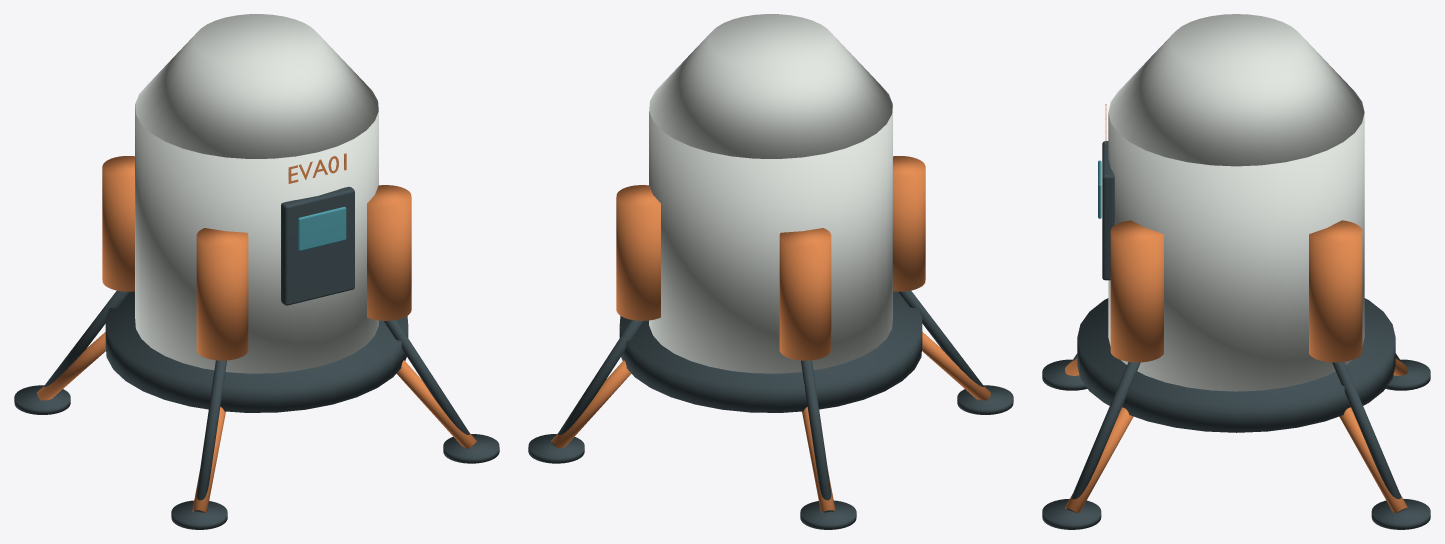
File: eva01-cargo-lander.glb
3 views of the same model, side by side, from view 1: azimuth 30°, elevation 25°; view 2: azimuth 150°, elevation 25°; view 3: azimuth 270°, elevation 25° (orthographic). The views are drawn at different scales.
Visible parts, largest first — view 1: Cuerpo de carga, Cubierta superior, Bastidor de servicio, Depósito auxiliar.002, Portón de carga, Depósito auxiliar.003, Depósito auxiliar.001, Mirilla, Tirante de tren.002, Tirante de tren.003, Amortiguador de aterrizaje.003, Plato de apoyo.002 (+5 smaller); view 2: Cuerpo de carga, Cubierta superior, Bastidor de servicio, Depósito auxiliar.001, Depósito auxiliar, Depósito auxiliar.002, Tirante de tren.001, Tirante de tren, Amortiguador de aterrizaje, Plato de apoyo.001, Plato de apoyo, Amortiguador de aterrizaje.002 (+3 smaller); view 3: Cuerpo de carga, Cubierta superior, Bastidor de servicio, Depósito auxiliar, Depósito auxiliar.003, Tirante de tren, Tirante de tren.003, Portón de carga, Plato de apoyo, Plato de apoyo.003, Amortiguador de aterrizaje, Amortiguador de aterrizaje.003 (+2 smaller).
Part boxes in pixels (box(x1,y1,x2,y2)): Cuerpo de carga: box(135, 104, 378, 373); Cubierta superior: box(135, 14, 378, 158); Bastidor de servicio: box(105, 291, 408, 412); Depósito auxiliar.002: box(196, 228, 248, 360); Portón de carga: box(281, 187, 354, 305); Depósito auxiliar.003: box(367, 185, 411, 320); Depósito auxiliar.001: box(102, 156, 134, 291); Mirilla: box(298, 206, 346, 251); Tirante de tren.002: box(194, 360, 226, 512); Tirante de tren.003: box(384, 320, 475, 446); Amortiguador de aterrizaje.003: box(396, 360, 476, 448); Plato de apoyo.002: box(171, 500, 227, 529); Cuerpo de carga: box(649, 104, 892, 373); Cubierta superior: box(649, 14, 892, 158); Bastidor de servicio: box(619, 291, 922, 412); Depósito auxiliar.001: box(779, 228, 831, 360); Depósito auxiliar: box(616, 185, 660, 320); Depósito auxiliar.002: box(893, 156, 925, 291); Tirante de tren.001: box(801, 360, 833, 512); Tirante de tren: box(552, 320, 643, 446); Amortiguador de aterrizaje: box(551, 360, 631, 448); Plato de apoyo.001: box(800, 500, 856, 529); Plato de apoyo: box(528, 434, 584, 463); Amortiguador de aterrizaje.002: box(922, 332, 990, 400); Cuerpo de carga: box(1108, 113, 1364, 391); Cubierta superior: box(1108, 14, 1364, 166); Bastidor de servicio: box(1077, 298, 1395, 432); Depósito auxiliar: box(1309, 220, 1362, 362); Depósito auxiliar.003: box(1110, 220, 1163, 362); Tirante de tren: box(1332, 362, 1406, 512); Tirante de tren.003: box(1066, 362, 1140, 512); Portón de carga: box(1102, 141, 1114, 280); Plato de apoyo: box(1371, 498, 1430, 529); Plato de apoyo.003: box(1042, 498, 1101, 529); Amortiguador de aterrizaje: box(1339, 407, 1407, 513); Amortiguador de aterrizaje.003: box(1065, 407, 1133, 513).
Size of the model in its own units: 5 by 5.77 by 5.
